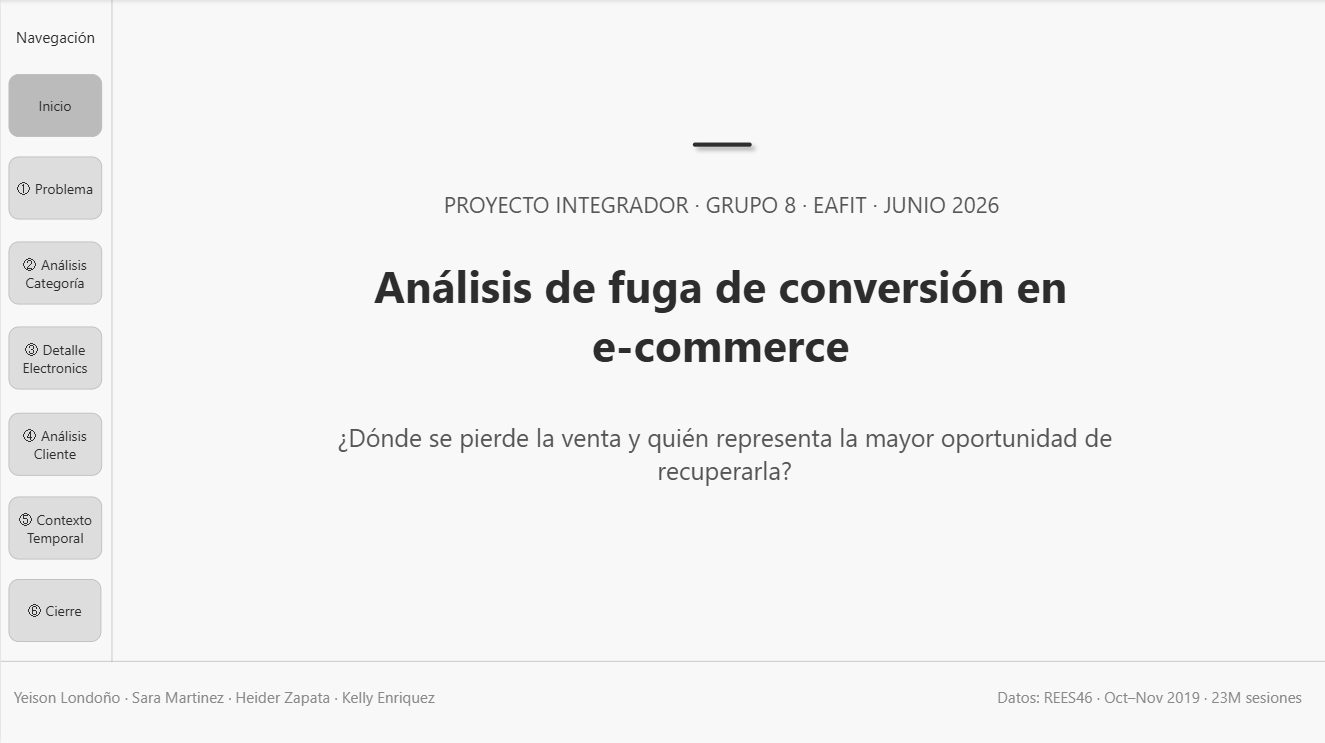

The page's visual inventory and layout, read from the dashboard file:
{"tool":"powerbi","page":{"name":"Portada","canvas":[1280,720],"ordinal":0},"visuals":[{"type":"textbox","box":[383.8,178.9,623.7,45.4],"z":0},{"type":"textbox","box":[334.7,241.9,720.8,133.6],"z":1000},{"type":"textbox","box":[289.3,402,817.8,78.1],"z":2000},{"type":"shape","box":[658.3,122.5,74.8,35],"z":3000},{"type":"shape","box":[0,558.2,1280.3,161.3],"z":4000},{"type":"textbox","box":[7.6,659,427.2,39.1],"z":5000},{"type":"textbox","box":[833.7,658.7,427.1,39.8],"z":6000},{"type":"shape","box":[0,0,214.2,640.1],"z":7000},{"type":"actionButton","box":[7.6,71.8,90,60.5],"z":8000},{"type":"textbox","box":[5,21.4,95.8,30.2],"z":9000},{"type":"actionButton","box":[7.6,234.4,90,60.5],"z":10000},{"type":"actionButton","box":[7.6,480.1,90.7,60.5],"z":11000},{"type":"actionButton","box":[7.6,399.4,90,60.5],"z":12000},{"type":"actionButton","box":[7.6,559.5,89.5,60.5],"z":13000},{"type":"actionButton","box":[7.6,316.3,90,60.5],"z":14000},{"type":"actionButton","box":[7.6,152.5,90,60.5],"z":15000}]}

Visuals, with their boxes on the page's 1280x720 design canvas (x1, y1, x2, y2). These are canvas units, not pixel positions in the 1325x743 screenshot, which may show the page scaled, cropped or inside an application window:
textbox: 384,179,1008,224
textbox: 335,242,1056,376
textbox: 289,402,1107,480
shape: 658,122,733,158
shape: 0,558,1280,720
textbox: 8,659,435,698
textbox: 834,659,1261,698
shape: 0,0,214,640
actionButton: 8,72,98,132
textbox: 5,21,101,52
actionButton: 8,234,98,295
actionButton: 8,480,98,541
actionButton: 8,399,98,460
actionButton: 8,560,97,620
actionButton: 8,316,98,377
actionButton: 8,152,98,213
